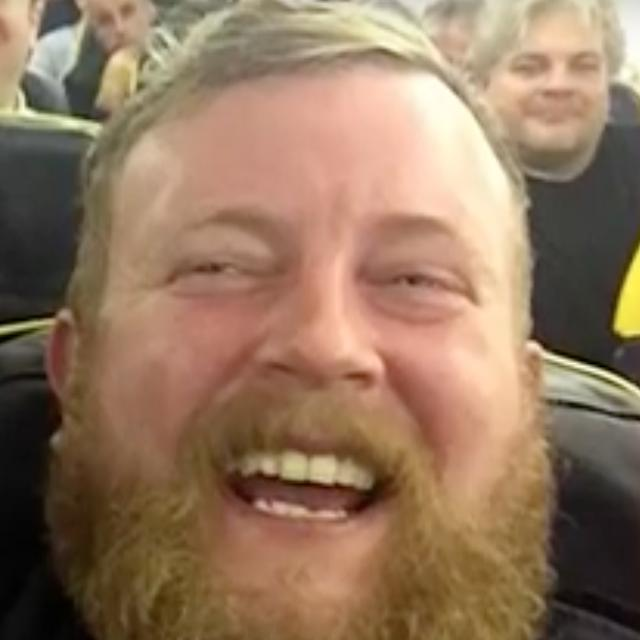Normal: (103, 72, 531, 632)
